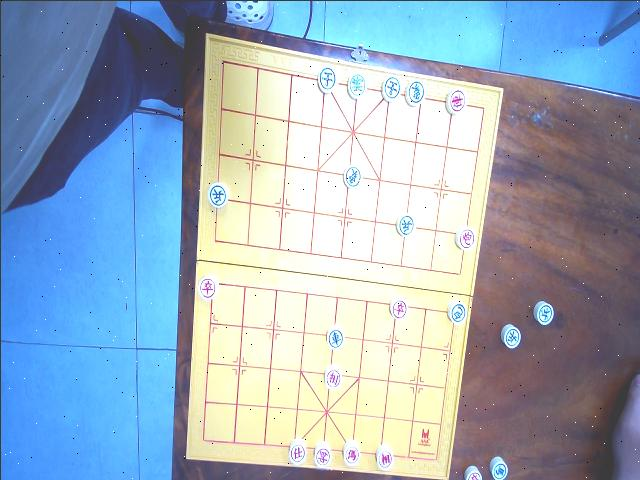piece: (446, 87, 467, 115), (405, 78, 425, 107), (206, 182, 228, 208), (198, 274, 218, 302), (346, 71, 366, 99), (318, 65, 337, 93), (455, 225, 475, 251), (375, 443, 393, 471), (382, 74, 401, 100), (448, 298, 467, 324), (390, 295, 408, 321), (324, 364, 342, 390), (396, 212, 414, 238), (342, 440, 360, 466), (313, 442, 331, 468), (288, 438, 306, 464), (326, 325, 344, 351), (489, 456, 508, 480), (343, 164, 361, 189), (464, 464, 482, 480)
